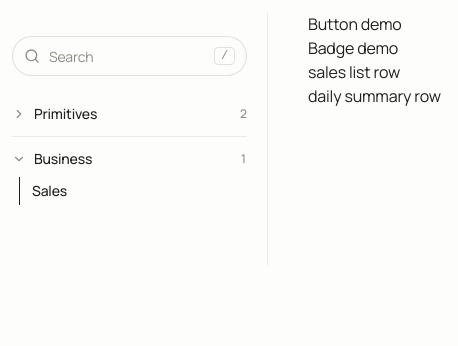
Test case: the directory sidebar › lists every lane, and a lane's sections once it is opened
The width and height of the screenshot is (458, 346).
Expected: the navigation bar named "Sections" shows "Business", [12,141,247,177]
Expected: the navigation bar "Sections" does not show "Button"
Click the button "Primitives 2": (130, 114) [12,96,247,132]
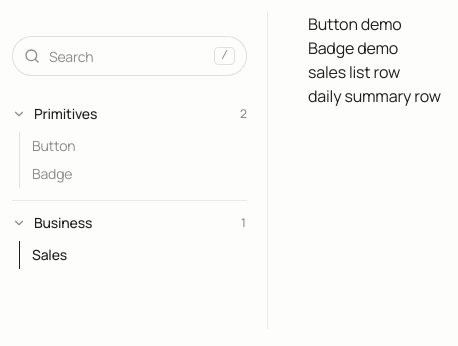
Expected: the navigation bar named "Sections" shows "Button", [19,132,247,160]
Expected: the navigation bar named "Sections" shows "Badge", [19,160,247,188]
